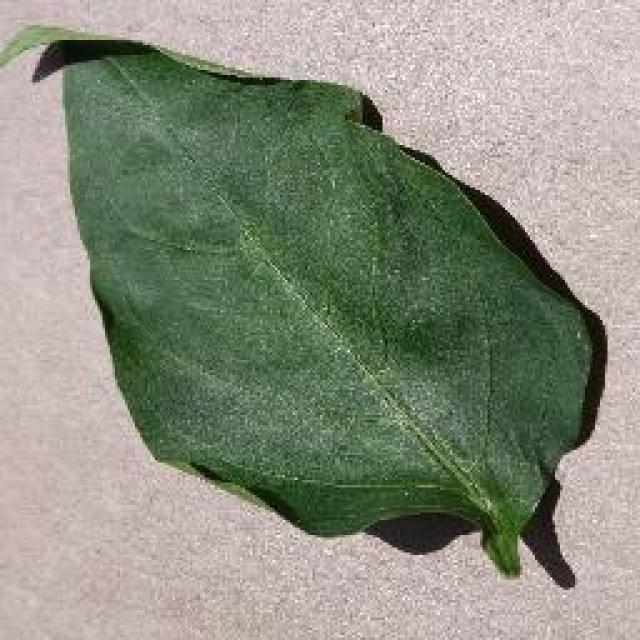Chilli_Healthy: (0, 20, 608, 578)
